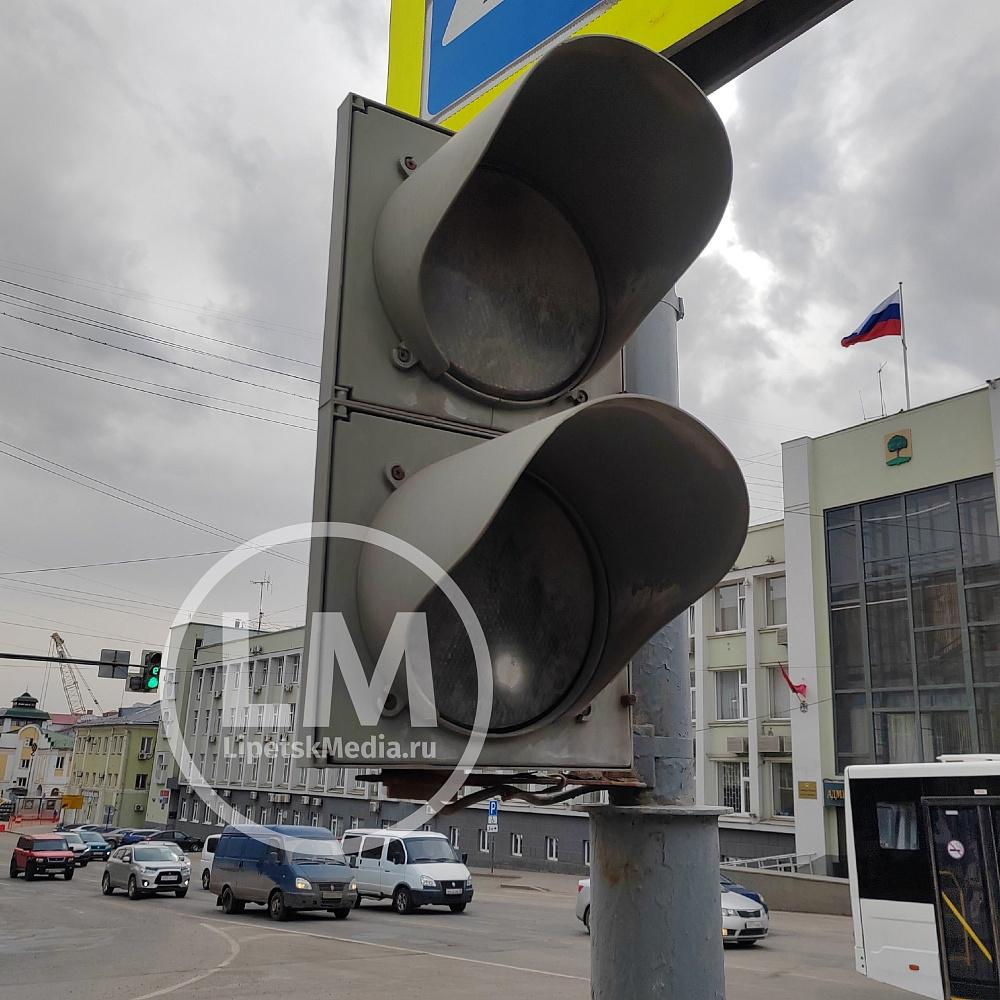off traffic light: (299, 37, 746, 774)
